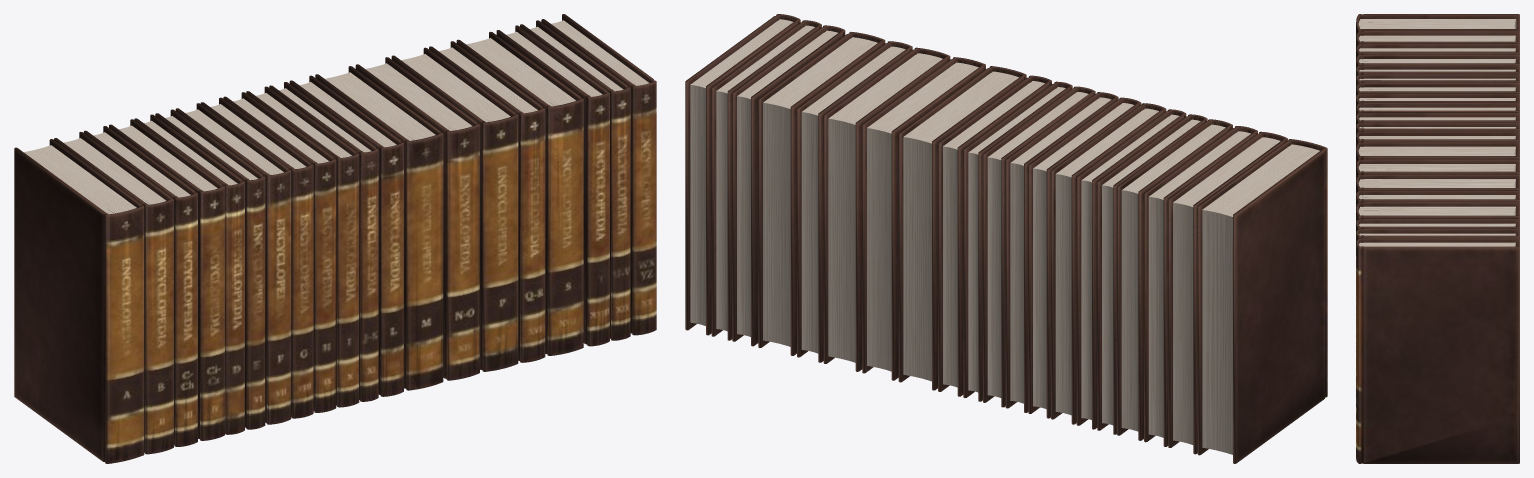
The model's file is book_encyclopedia_set_01_1k.gltf.
The picture shows the model from 3 angles, left to right: view 1: azimuth 30°, elevation 25°; view 2: azimuth 150°, elevation 25°; view 3: azimuth 270°, elevation 25°; orthographic projection. The views are drawn at different scales.
Visible parts, largest first — view 1: book_encyclopedia_set_01_book01, book_encyclopedia_set_01_book13, book_encyclopedia_set_01_book15, book_encyclopedia_set_01_book17, book_encyclopedia_set_01_book14, book_encyclopedia_set_01_book02, book_encyclopedia_set_01_book16, book_encyclopedia_set_01_book04, book_encyclopedia_set_01_book18, book_encyclopedia_set_01_book20, book_encyclopedia_set_01_book07, book_encyclopedia_set_01_book12 (+8 smaller); view 2: book_encyclopedia_set_01_book01, book_encyclopedia_set_01_book13, book_encyclopedia_set_01_book15, book_encyclopedia_set_01_book17, book_encyclopedia_set_01_book14, book_encyclopedia_set_01_book02, book_encyclopedia_set_01_book04, book_encyclopedia_set_01_book16, book_encyclopedia_set_01_book20, book_encyclopedia_set_01_book18, book_encyclopedia_set_01_book07, book_encyclopedia_set_01_book12 (+8 smaller); view 3: book_encyclopedia_set_01_book20, book_encyclopedia_set_01_book13, book_encyclopedia_set_01_book01, book_encyclopedia_set_01_book17, book_encyclopedia_set_01_book15, book_encyclopedia_set_01_book14, book_encyclopedia_set_01_book02, book_encyclopedia_set_01_book16, book_encyclopedia_set_01_book03, book_encyclopedia_set_01_book12, book_encyclopedia_set_01_book07, book_encyclopedia_set_01_book04 (+8 smaller).
Boxes of the visible parts, x1=… form: book_encyclopedia_set_01_book01: x1=14, y1=139, x2=144, y2=463; book_encyclopedia_set_01_book13: x1=315, y1=66, x2=443, y2=390; book_encyclopedia_set_01_book15: x1=391, y1=47, x2=518, y2=371; book_encyclopedia_set_01_book17: x1=456, y1=31, x2=583, y2=355; book_encyclopedia_set_01_book14: x1=355, y1=57, x2=479, y2=380; book_encyclopedia_set_01_book02: x1=54, y1=132, x2=173, y2=454; book_encyclopedia_set_01_book16: x1=429, y1=41, x2=545, y2=362; book_encyclopedia_set_01_book04: x1=109, y1=119, x2=224, y2=440; book_encyclopedia_set_01_book18: x1=496, y1=25, x2=609, y2=346; book_encyclopedia_set_01_book20: x1=541, y1=14, x2=656, y2=335; book_encyclopedia_set_01_book07: x1=175, y1=103, x2=291, y2=424; book_encyclopedia_set_01_book12: x1=289, y1=75, x2=403, y2=396; book_encyclopedia_set_01_book01: x1=1197, y1=139, x2=1327, y2=463; book_encyclopedia_set_01_book13: x1=898, y1=66, x2=1026, y2=390; book_encyclopedia_set_01_book15: x1=823, y1=47, x2=950, y2=371; book_encyclopedia_set_01_book17: x1=758, y1=32, x2=885, y2=355; book_encyclopedia_set_01_book14: x1=862, y1=57, x2=985, y2=380; book_encyclopedia_set_01_book02: x1=1168, y1=131, x2=1287, y2=454; book_encyclopedia_set_01_book04: x1=1117, y1=119, x2=1232, y2=440; book_encyclopedia_set_01_book16: x1=797, y1=41, x2=912, y2=362; book_encyclopedia_set_01_book20: x1=685, y1=14, x2=800, y2=335; book_encyclopedia_set_01_book18: x1=732, y1=25, x2=845, y2=346; book_encyclopedia_set_01_book07: x1=1051, y1=103, x2=1166, y2=424; book_encyclopedia_set_01_book12: x1=938, y1=75, x2=1051, y2=396; book_encyclopedia_set_01_book20: x1=1356, y1=238, x2=1519, y2=463; book_encyclopedia_set_01_book13: x1=1356, y1=142, x2=1519, y2=165; book_encyclopedia_set_01_book01: x1=1356, y1=14, x2=1519, y2=36; book_encyclopedia_set_01_book17: x1=1356, y1=202, x2=1519, y2=222; book_encyclopedia_set_01_book15: x1=1356, y1=174, x2=1519, y2=194; book_encyclopedia_set_01_book14: x1=1356, y1=159, x2=1519, y2=181; book_encyclopedia_set_01_book02: x1=1356, y1=30, x2=1519, y2=47; book_encyclopedia_set_01_book16: x1=1356, y1=190, x2=1519, y2=208; book_encyclopedia_set_01_book03: x1=1356, y1=43, x2=1519, y2=58; book_encyclopedia_set_01_book12: x1=1356, y1=131, x2=1519, y2=163; book_encyclopedia_set_01_book07: x1=1356, y1=82, x2=1519, y2=97; book_encyclopedia_set_01_book04: x1=1356, y1=54, x2=1519, y2=68.
Size of the model in its own units: 0.5513 by 0.2374 by 0.1631.
2 materials, 2 textured.
